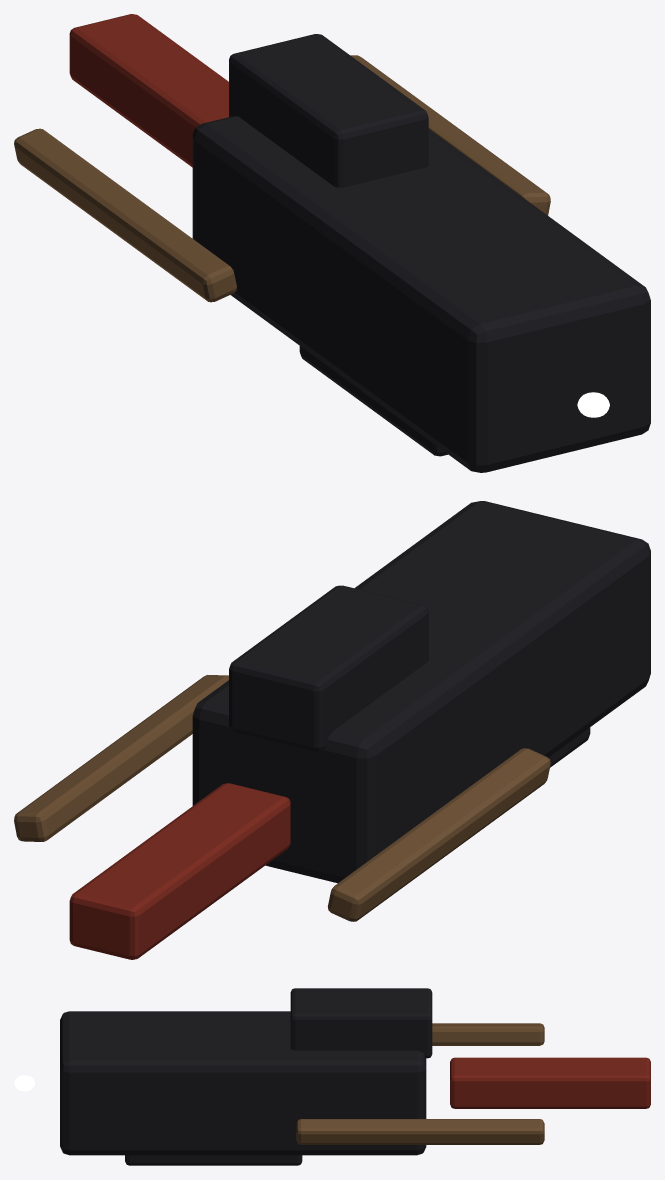
3 renders of one model, top to bottom at view 1: azimuth 30°, elevation 25°; view 2: azimuth 150°, elevation 25°; view 3: azimuth 270°, elevation 25°, orthographic. The views are drawn at different scales.
Parts seen in each view (by area): view 1: RIMWARD_HULL, RIMWARD_ENGINE_GLOW; view 2: RIMWARD_HULL; view 3: RIMWARD_HULL, RIMWARD_ENGINE_GLOW.
Boxes of the visible parts, left/top/right/bottom form: RIMWARD_HULL: left=14, top=14, right=650, bottom=472; RIMWARD_ENGINE_GLOW: left=577, top=392, right=609, bottom=417; RIMWARD_HULL: left=14, top=501, right=650, bottom=959; RIMWARD_HULL: left=60, top=988, right=650, bottom=1165; RIMWARD_ENGINE_GLOW: left=14, top=1075, right=35, bottom=1091.
Bounding box in the file's own units: 13.82 × 8.49 × 34.5.
